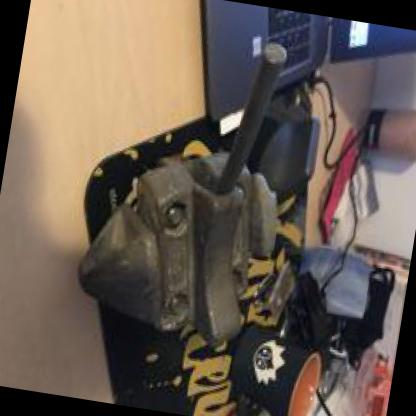Twistlock: (59, 0, 330, 361)
